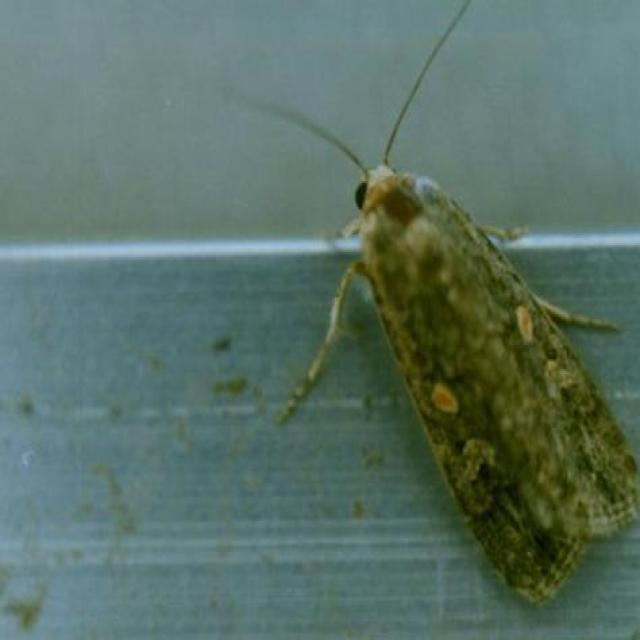BeetArmyWorm-Adult-: (283, 79, 639, 608)
